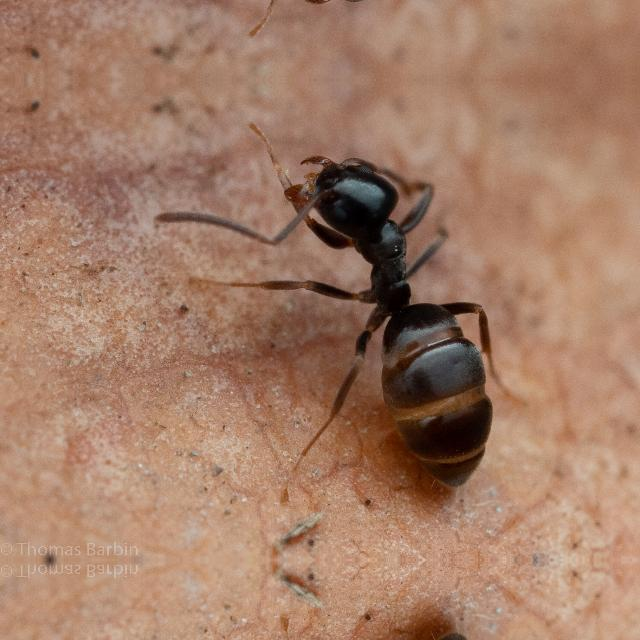Tapinoma: (227, 106, 553, 487)
